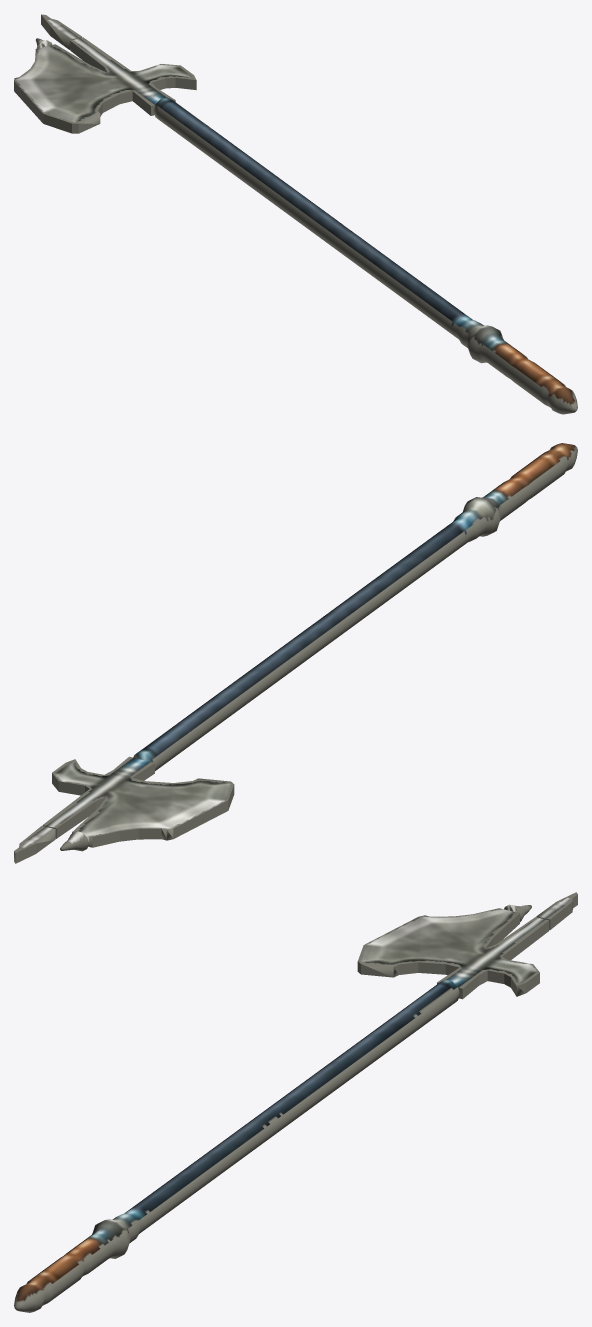
File: item_mm9_10192.glb
3 renders of one model, top to bottom at view 1: azimuth 30°, elevation 25°; view 2: azimuth 150°, elevation 25°; view 3: azimuth 330°, elevation 25°, orthographic. The views are drawn at different scales.
Parts seen in each view (by area): view 1: d10192; view 2: d10192; view 3: d10192.
Part boxes in pixels (<box>): d10192: <box>14,14,577,414</box>; d10192: <box>14,443,577,863</box>; d10192: <box>14,892,577,1312</box>.
Bounding box in the file's own units: 41.92 × 9 × 254.
1 material, 1 textured.
